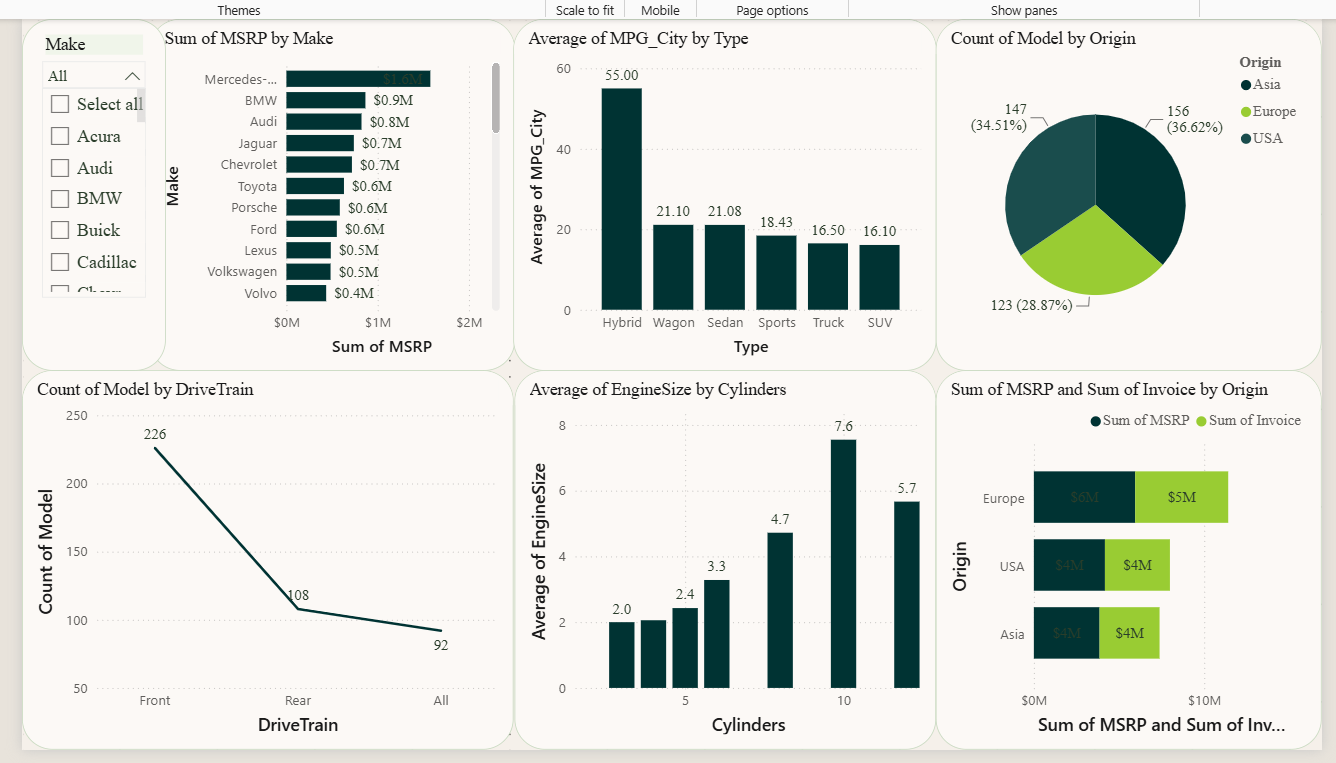

The dashboard page shown, as its layout file describes it:
{"tool":"powerbi","page":{"name":"Page 1","canvas":[1280,720],"ordinal":0},"visuals":[{"type":"barChart","fields":{"Category":["CARS.Make"],"Y":["Sum(CARS.MSRP)"]},"box":[125,0,360,346.7],"z":0},{"type":"columnChart","fields":{"Category":["CARS.Type"],"Y":["Avg(CARS.MPG_City)"]},"box":[483.3,0,416.7,346.7],"z":1000},{"type":"pieChart","fields":{"Y":["CountNonNull(CARS.Model)"],"Series":["CARS.Origin"]},"box":[900,0,380,346.2],"z":2000},{"type":"columnChart","fields":{"Y":["Avg(CARS.EngineSize)"],"Category":["CARS.Cylinders"]},"box":[485,346.2,415,374],"z":3000},{"type":"barChart","fields":{"Category":["CARS.Origin"],"Y":["Sum(CARS.MSRP)","Sum(CARS.Invoice)"]},"box":[900,346.2,380,374],"z":4000},{"type":"lineChart","fields":{"Category":["CARS.DriveTrain"],"Y":["CountNonNull(CARS.Model)"]},"box":[0,346.2,483.8,374],"z":5000},{"type":"slicer","fields":{"Values":["CARS.Make"]},"box":[0,0,141.7,346.7],"z":5001}]}

Visuals, with their boxes on the page's 1280x720 design canvas (x1, y1, x2, y2). These are canvas units, not pixel positions in the 1336x763 screenshot, which may show the page scaled, cropped or inside an application window:
barChart - CARS.Make x Sum(CARS.MSRP): x1=125, y1=0, x2=485, y2=347
columnChart - CARS.Type x Avg(CARS.MPG_City): x1=483, y1=0, x2=900, y2=347
pieChart - CountNonNull(CARS.Model) x CARS.Origin: x1=900, y1=0, x2=1280, y2=346
columnChart - Avg(CARS.EngineSize) x CARS.Cylinders: x1=485, y1=346, x2=900, y2=720
barChart - CARS.Origin x Sum(CARS.MSRP): x1=900, y1=346, x2=1280, y2=720
lineChart - CARS.DriveTrain x CountNonNull(CARS.Model): x1=0, y1=346, x2=484, y2=720
slicer - CARS.Make: x1=0, y1=0, x2=142, y2=347
